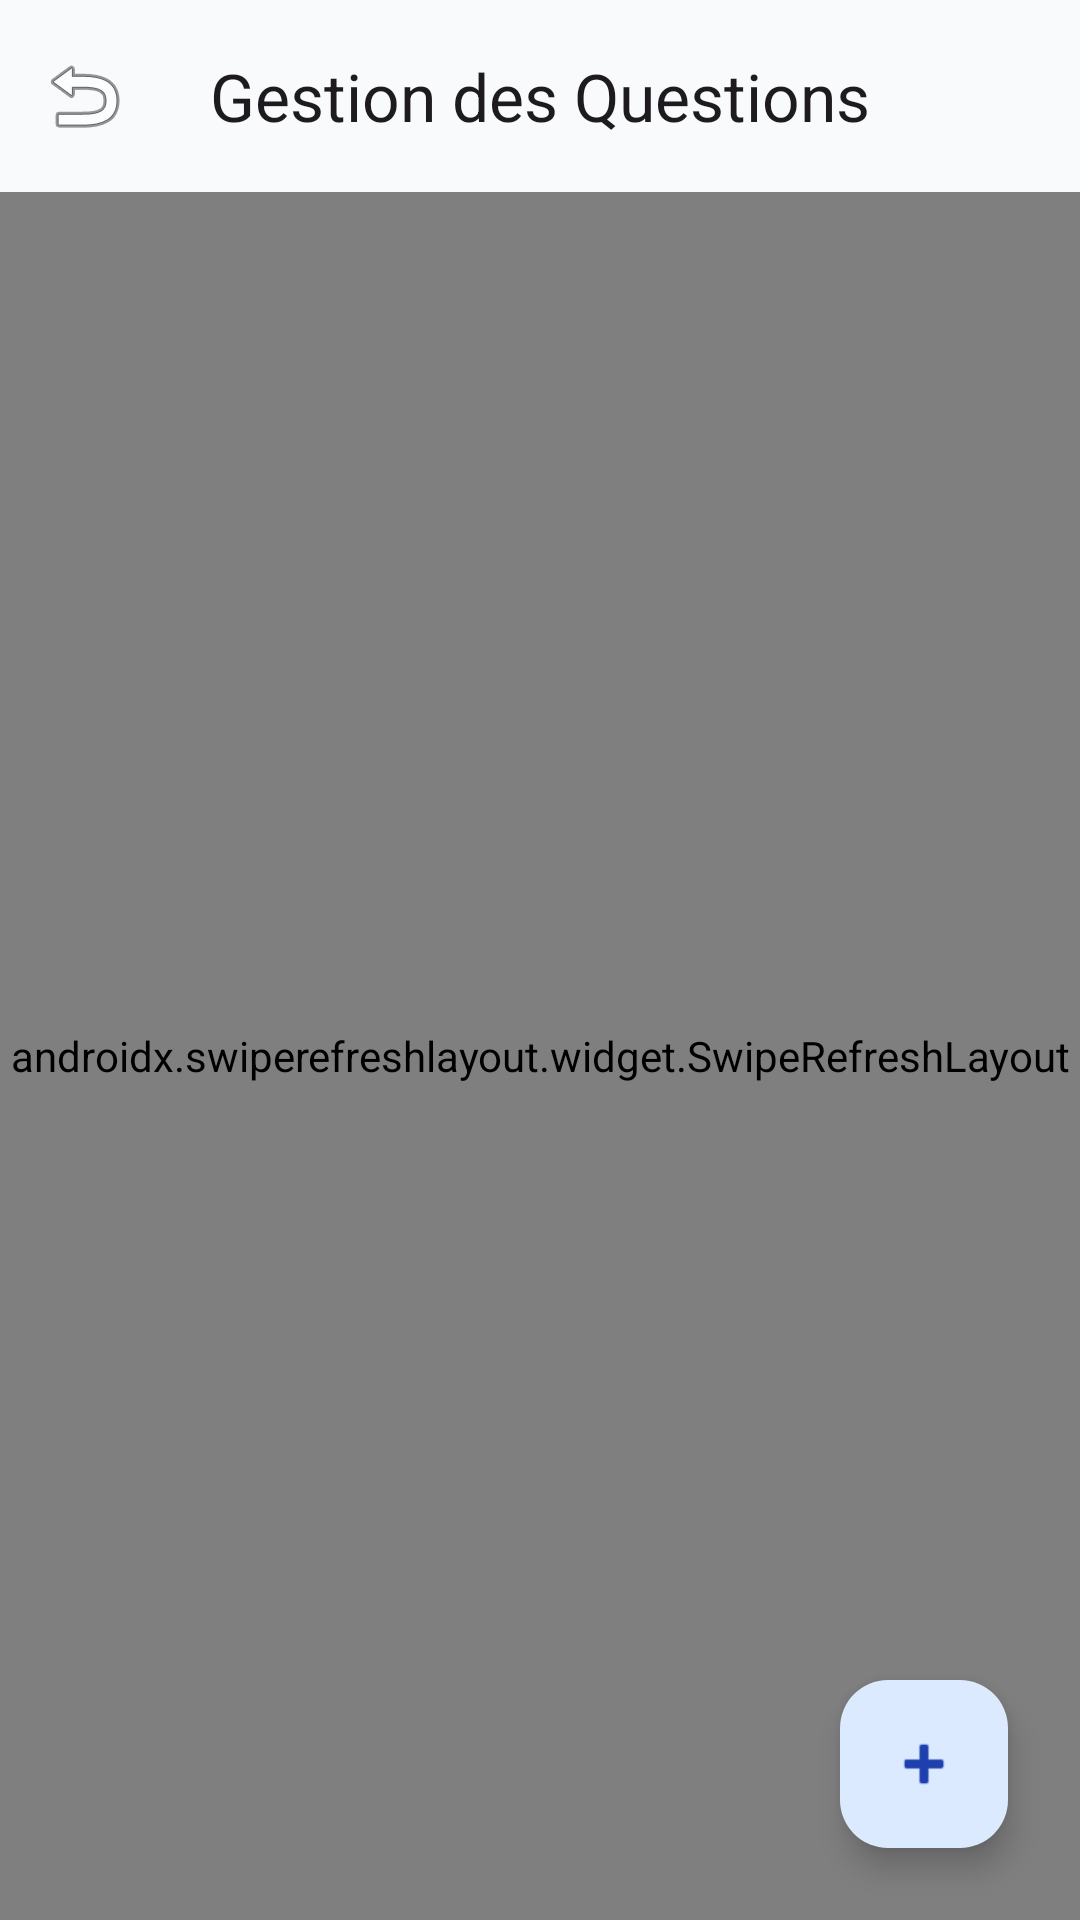

Icon bounding boxes for this 1080x1920 phone screenshot, format (x1, y1, x2, y2):
Ajouter une question: (840, 1680, 1008, 1848)
